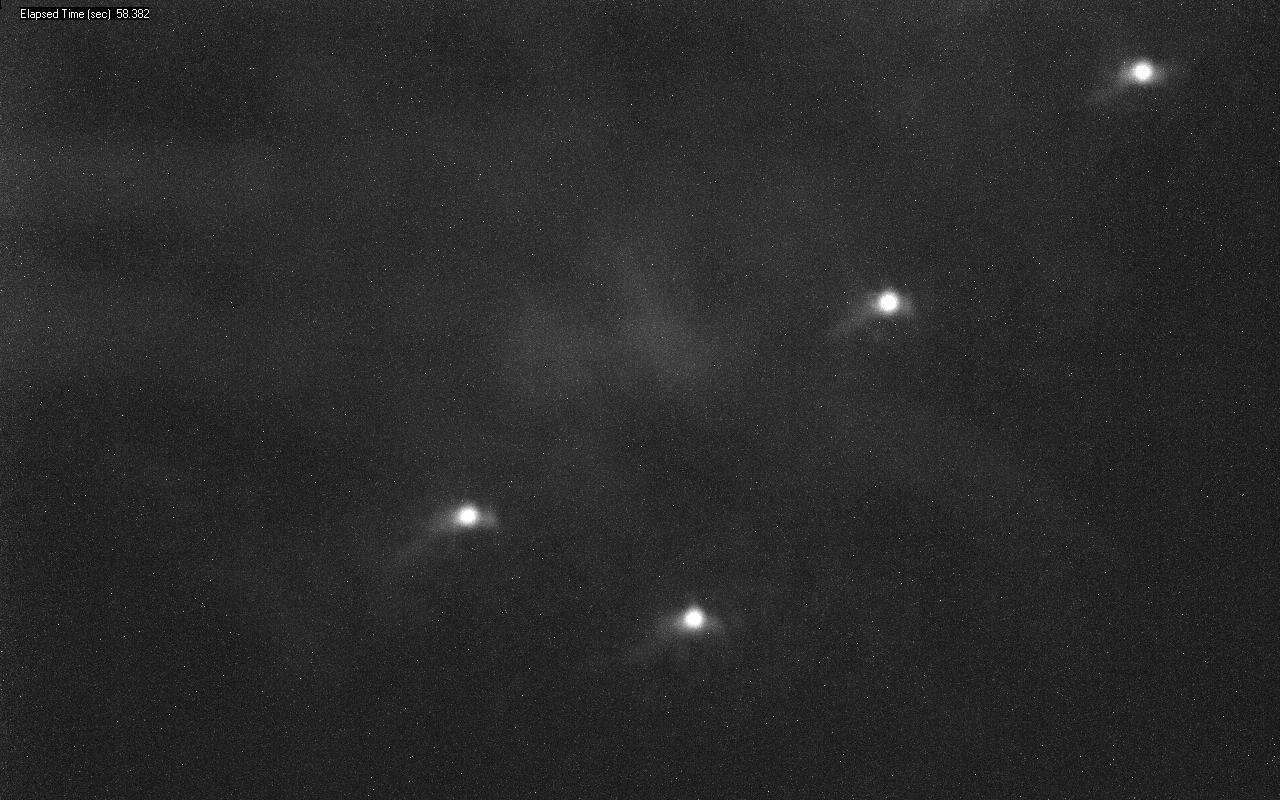Bead: (1124, 61, 1159, 85), (678, 603, 707, 630), (875, 290, 902, 316), (454, 503, 481, 528)
